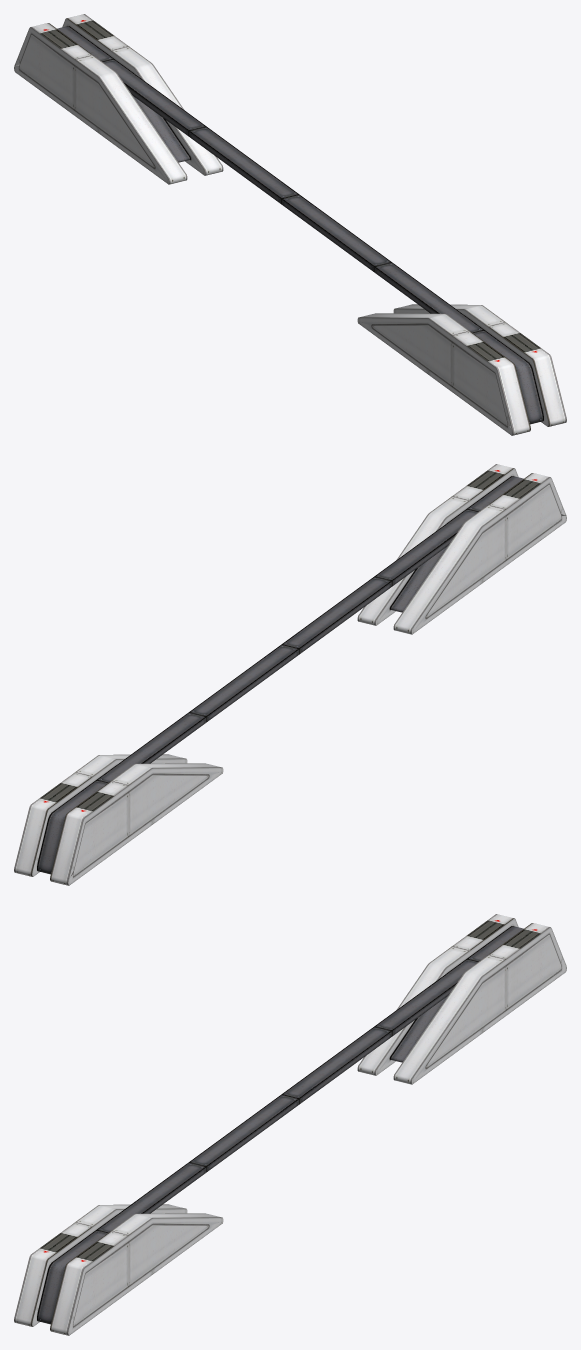
File: Dock_RailLRG.FBX
3 renders of one model, top to bottom at view 1: azimuth 30°, elevation 25°; view 2: azimuth 150°, elevation 25°; view 3: azimuth 330°, elevation 25°, orthographic.
Parts seen in each view (by area): view 1: Dock_RailLRG; view 2: Dock_RailLRG; view 3: Dock_RailLRG.
Boxes of the visible parts, x1,y1,x2,y2 form: Dock_RailLRG: (14,14,566,435); Dock_RailLRG: (14,464,566,885); Dock_RailLRG: (14,914,566,1335).
Bounding box in the file's own units: 1 × 1 × 15.99.
